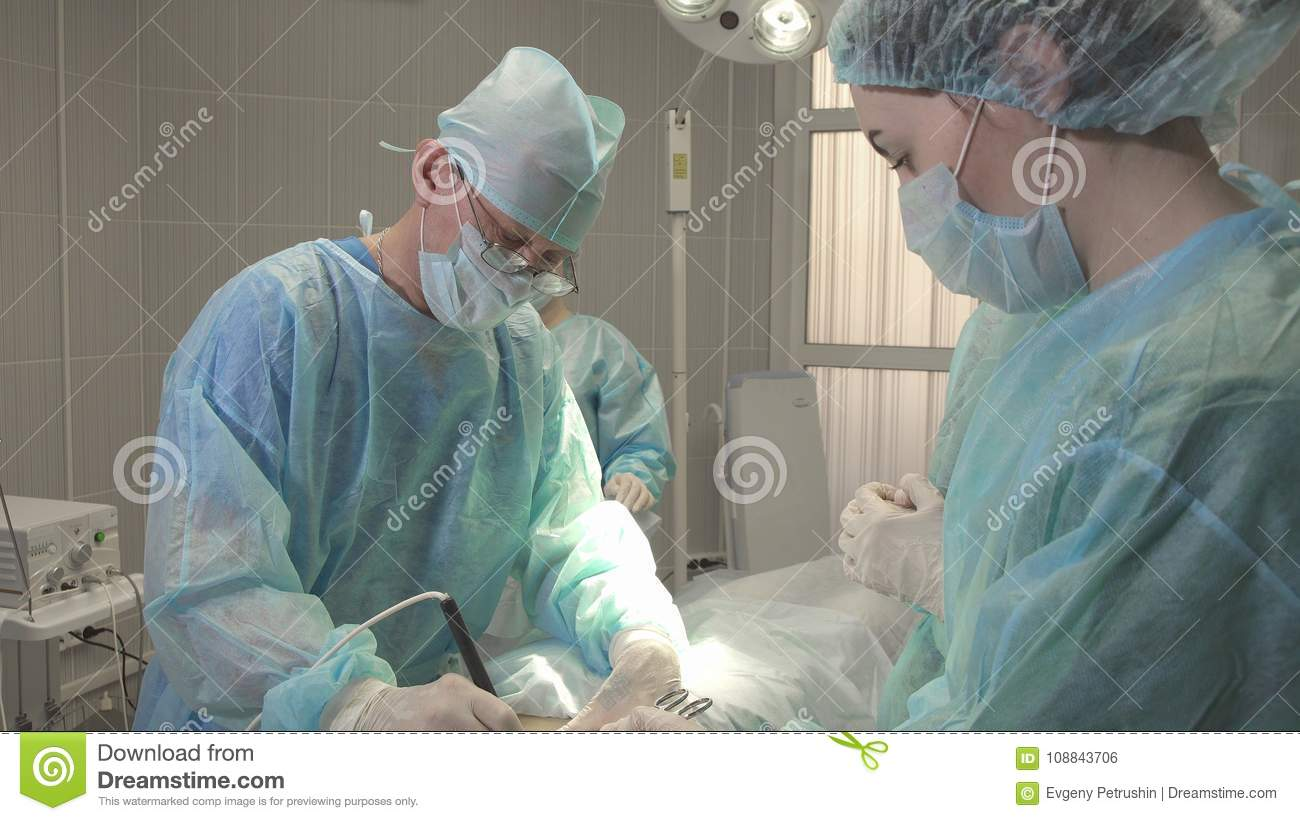mask: (900, 183, 1085, 314), (429, 234, 533, 347)
